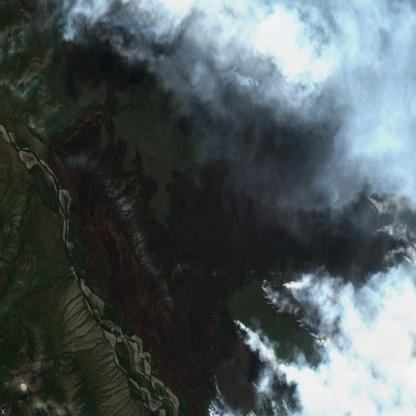fire: (260, 276, 332, 347), (358, 180, 398, 264), (207, 366, 236, 416), (269, 397, 297, 416), (232, 310, 246, 345), (245, 400, 260, 416), (248, 378, 257, 390)
